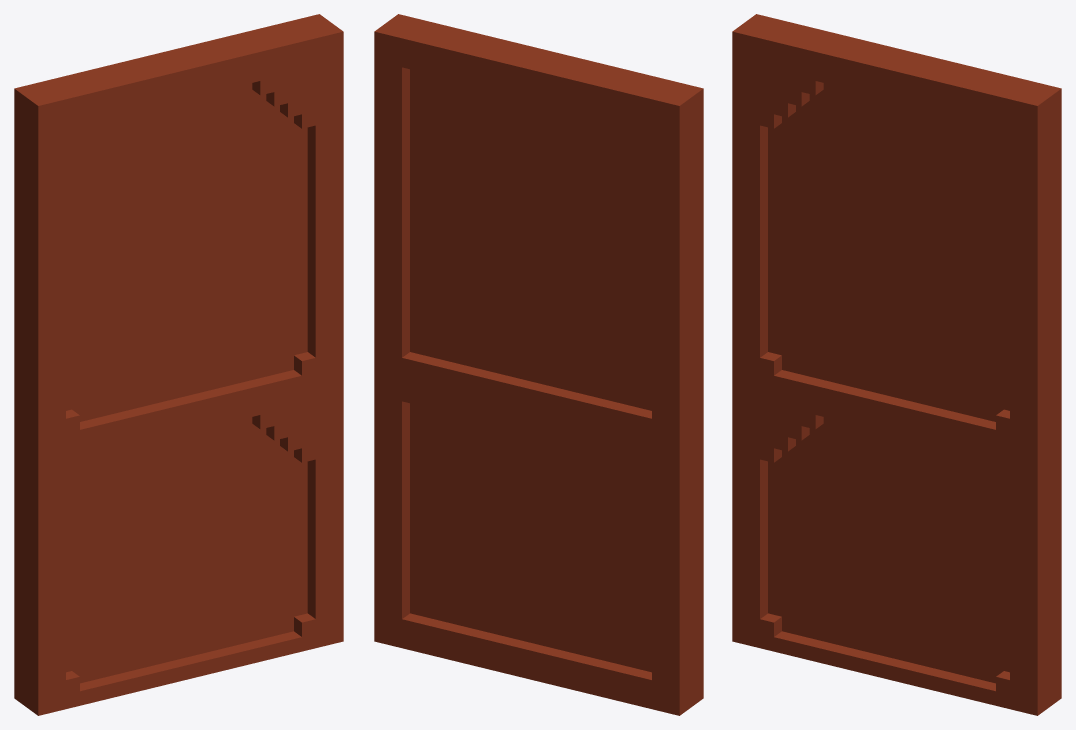
The model's file is DOOR.obj.
3 views of the same model, side by side, from view 1: azimuth 30°, elevation 25°; view 2: azimuth 150°, elevation 25°; view 3: azimuth 330°, elevation 25° (orthographic).
Size of the model in its own units: 2.2 by 4.2 by 0.5.
